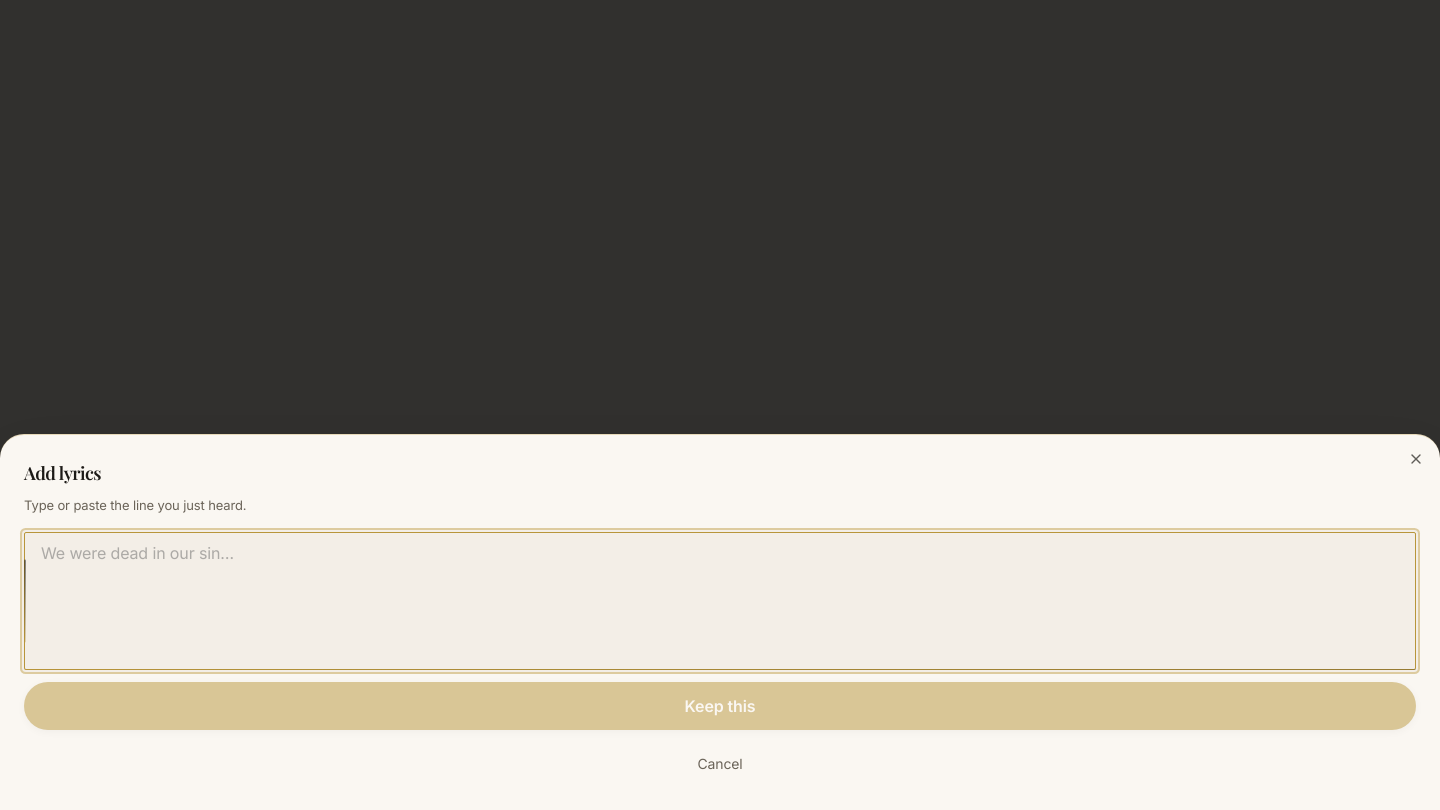
Test: CaptureSheet — honest pre-take copy + save gating › keeps the primary action disabled until a lyric is typed, then saves the exact text
This screenshot has width=1440, height=810.
Later steps or results of the test are not shown.
Expected: the button "Keep this" is disabled, [24, 682, 1416, 730]
Step 1. Type "  We were dead in our sin  " into the text box → (720, 601), box [24, 532, 1416, 670]
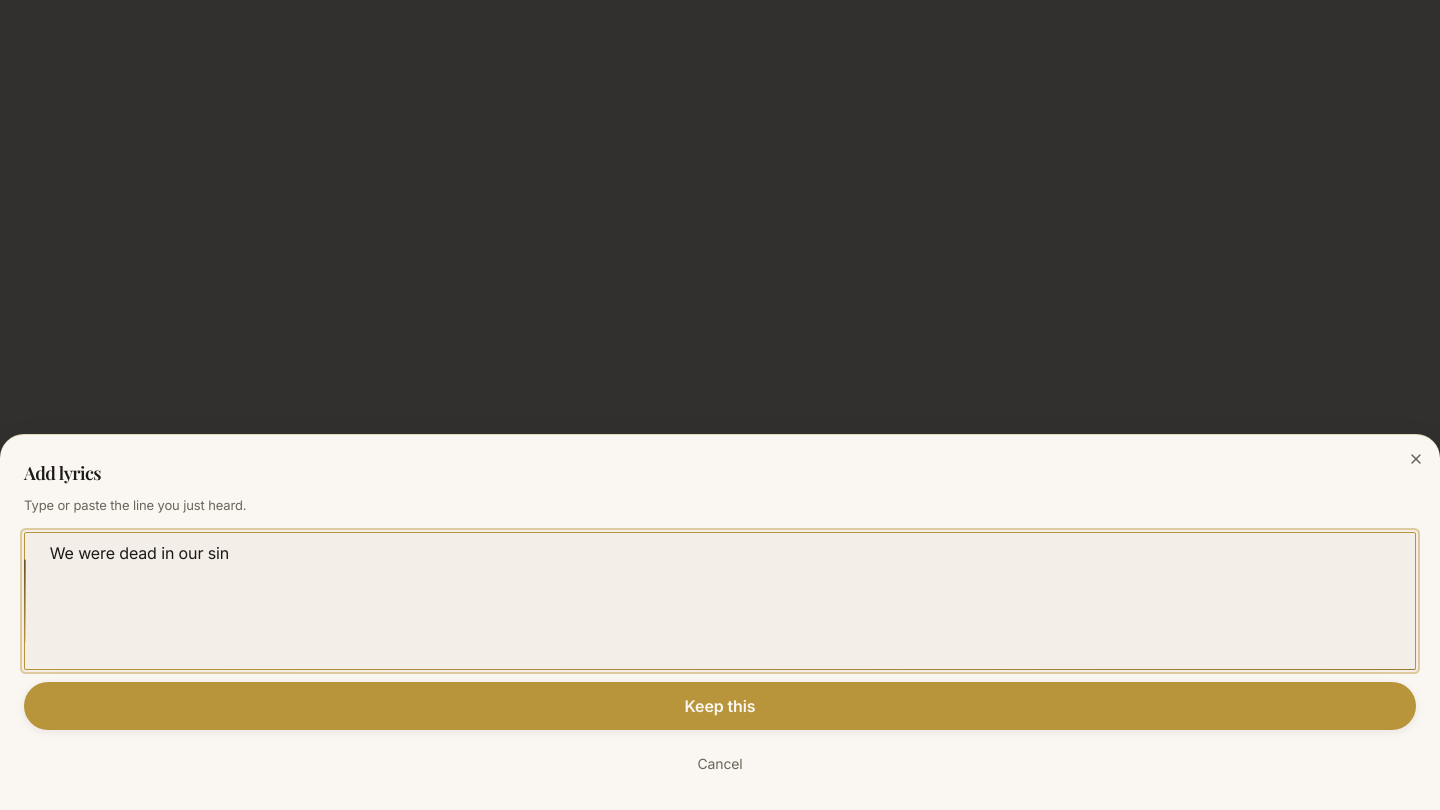
Result: the button "Keep this" is enabled at [24, 682, 1416, 730]
